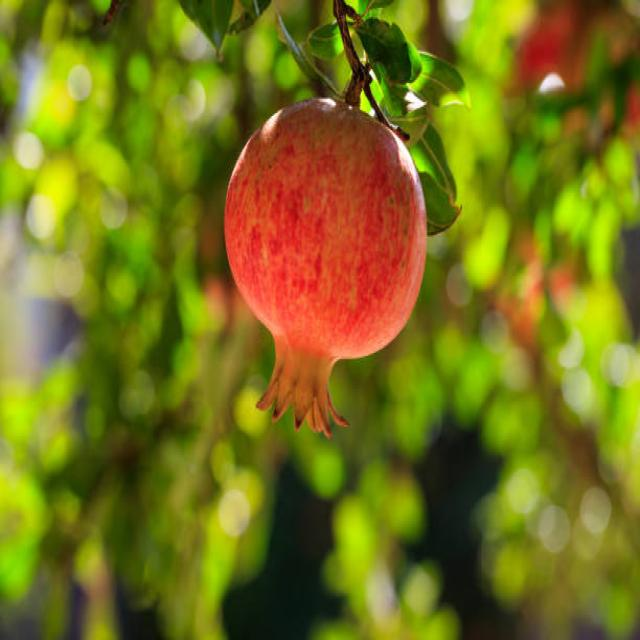Ripe: (222, 91, 430, 441)
